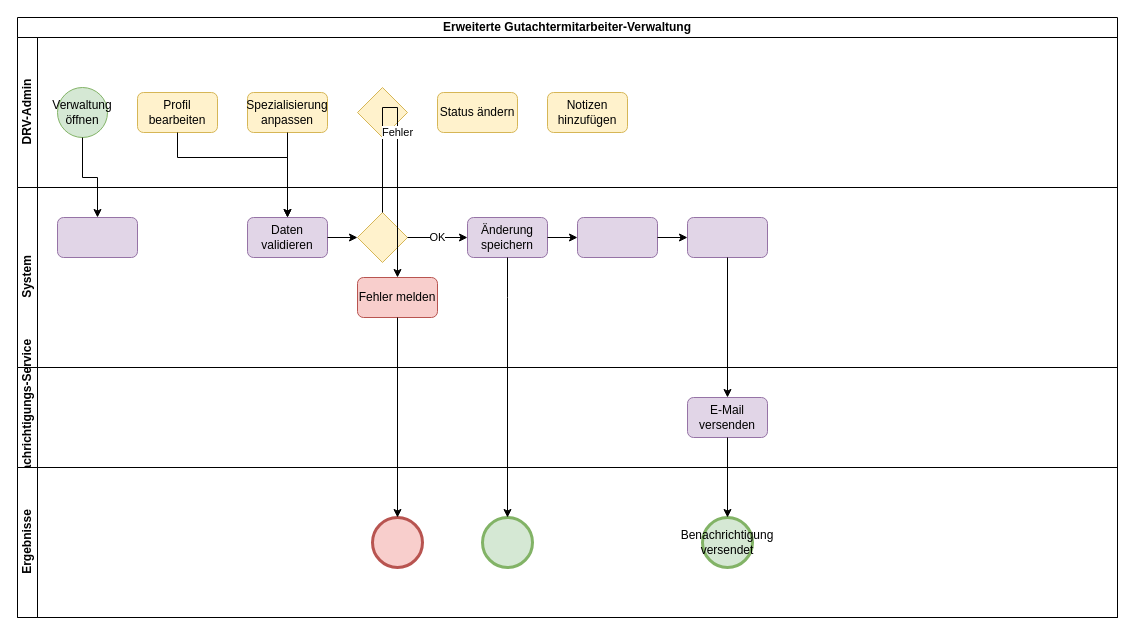
Some shapes in this 1135 by 635 pixel diagram are drawn without their labels. The centre of each missing label's shape, as x and y in pixels:
Aktion wählen: point 382,112
Benachrichtigung: point 727,237
Berechtigungen prüfen: point 97,237
Fehler behoben: point 397,542
Historie aktualisieren: point 617,237
Profil aktualisiert: point 507,542
Validierung OK?: point 382,237
